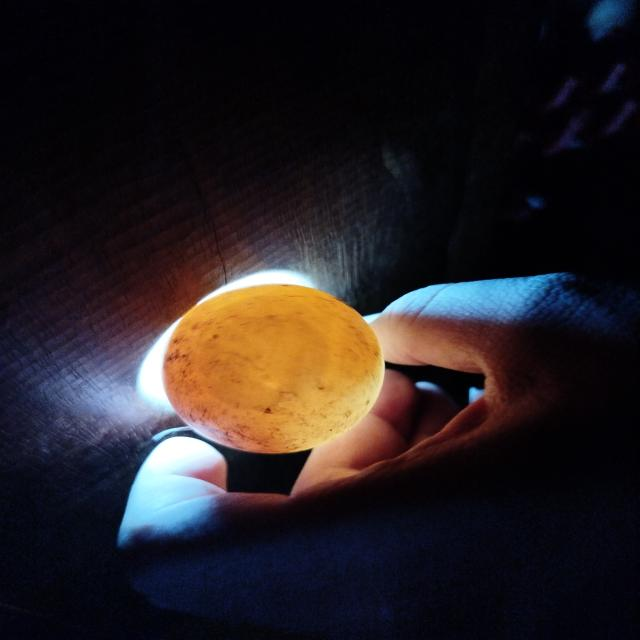Camara de Ar: (201, 316, 328, 410)
